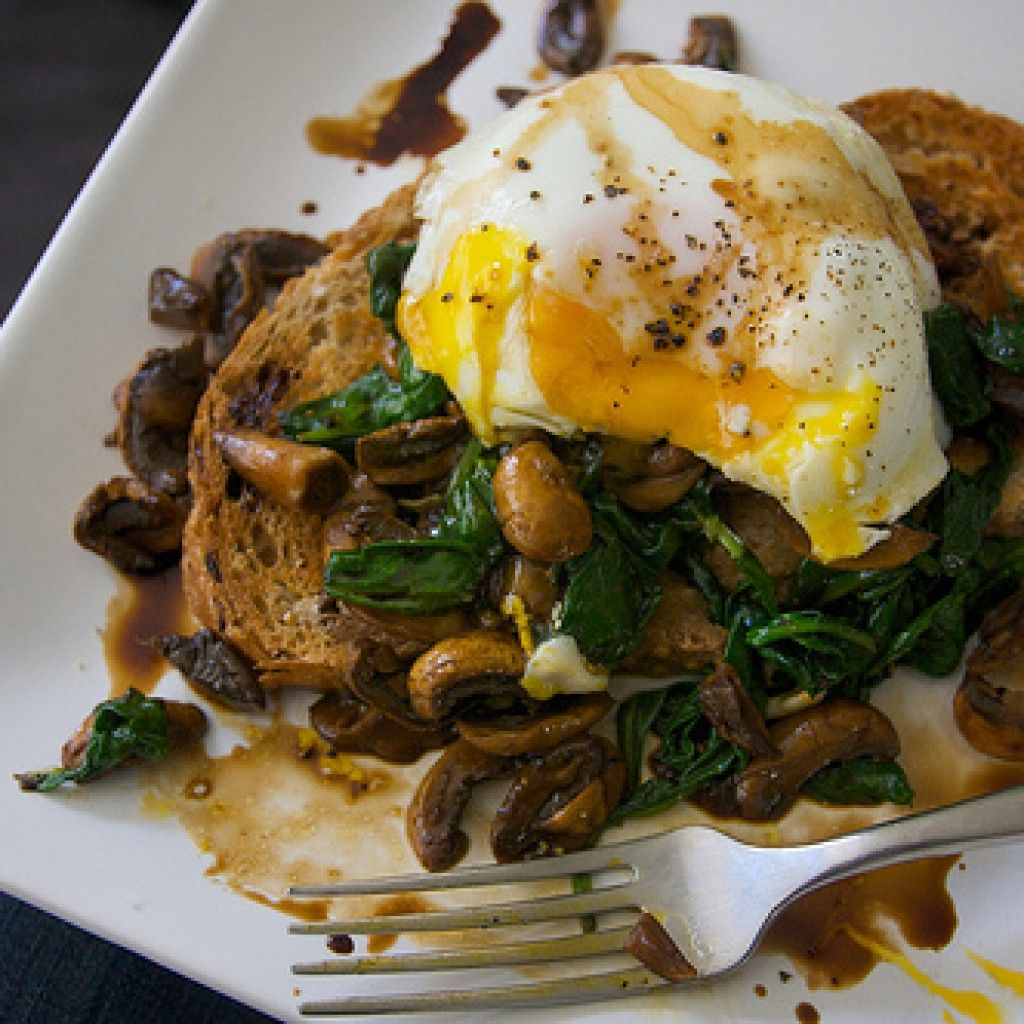meatballs: (429, 74, 908, 498)
slice of bread: (163, 223, 430, 686), (845, 80, 1024, 322)
